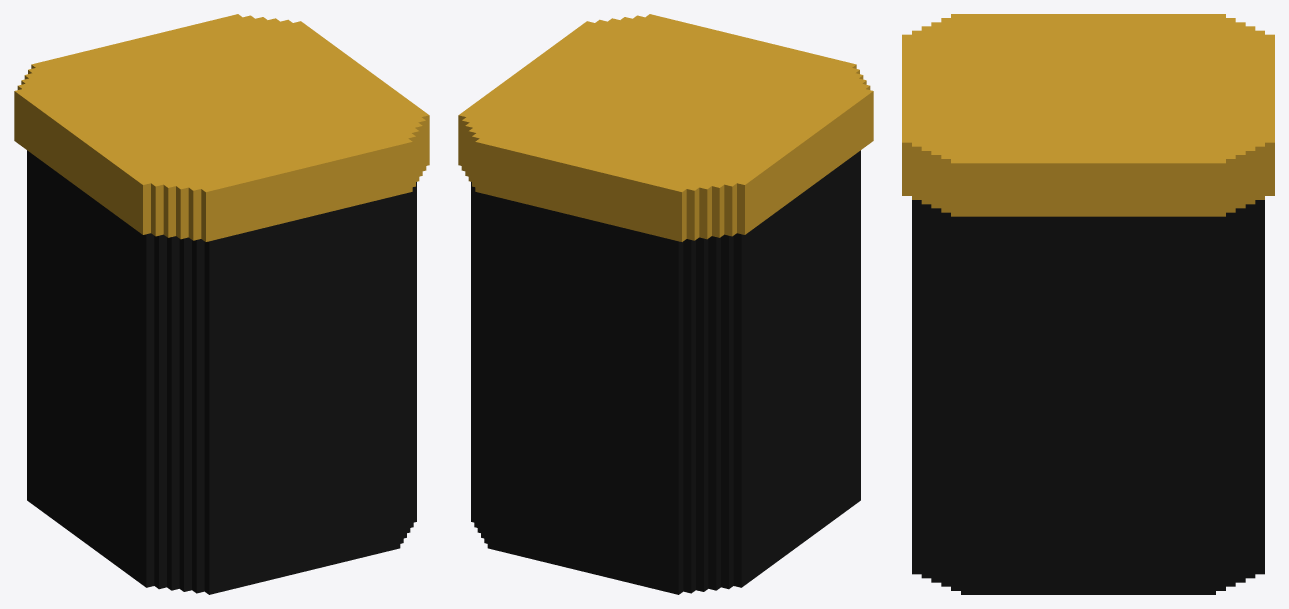
File: boots_trooper_worn_shaft.glb
The picture shows the model from 3 angles, left to right: view 1: azimuth 30°, elevation 25°; view 2: azimuth 150°, elevation 25°; view 3: azimuth 270°, elevation 25°; orthographic projection. The views are drawn at different scales.
Parts seen in each view (by area): view 1: boots_trooper_worn_shaft:compound; view 2: boots_trooper_worn_shaft:compound; view 3: boots_trooper_worn_shaft:compound.
Boxes of the visible parts, bbox=[...] form: boots_trooper_worn_shaft:compound: bbox=[14, 14, 429, 594]; boots_trooper_worn_shaft:compound: bbox=[458, 14, 873, 594]; boots_trooper_worn_shaft:compound: bbox=[902, 14, 1274, 594].
Size of the model in its own units: 0.144 by 0.196 by 0.152.
